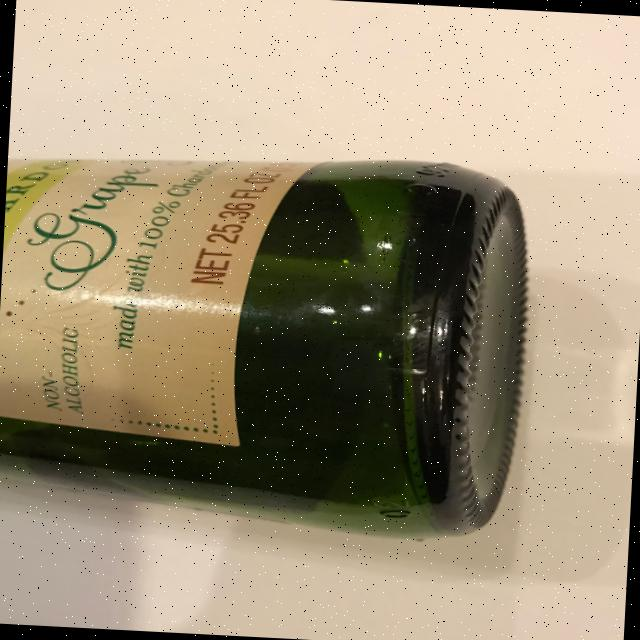glass: (0, 138, 538, 545)
